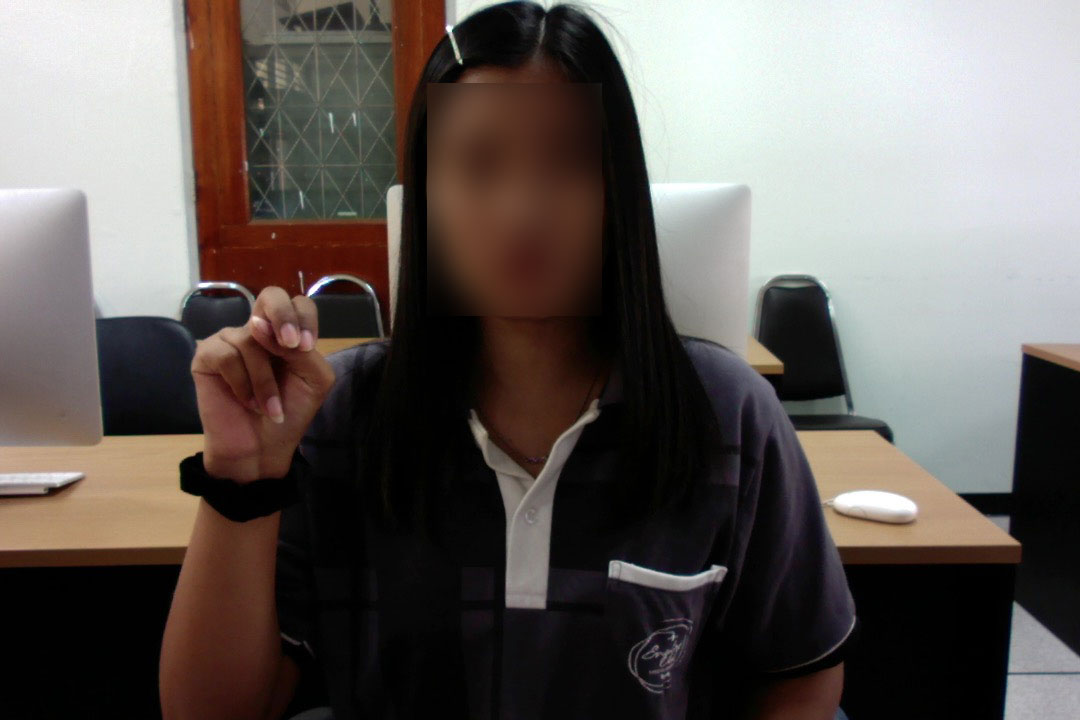nor: (186, 279, 341, 465)
